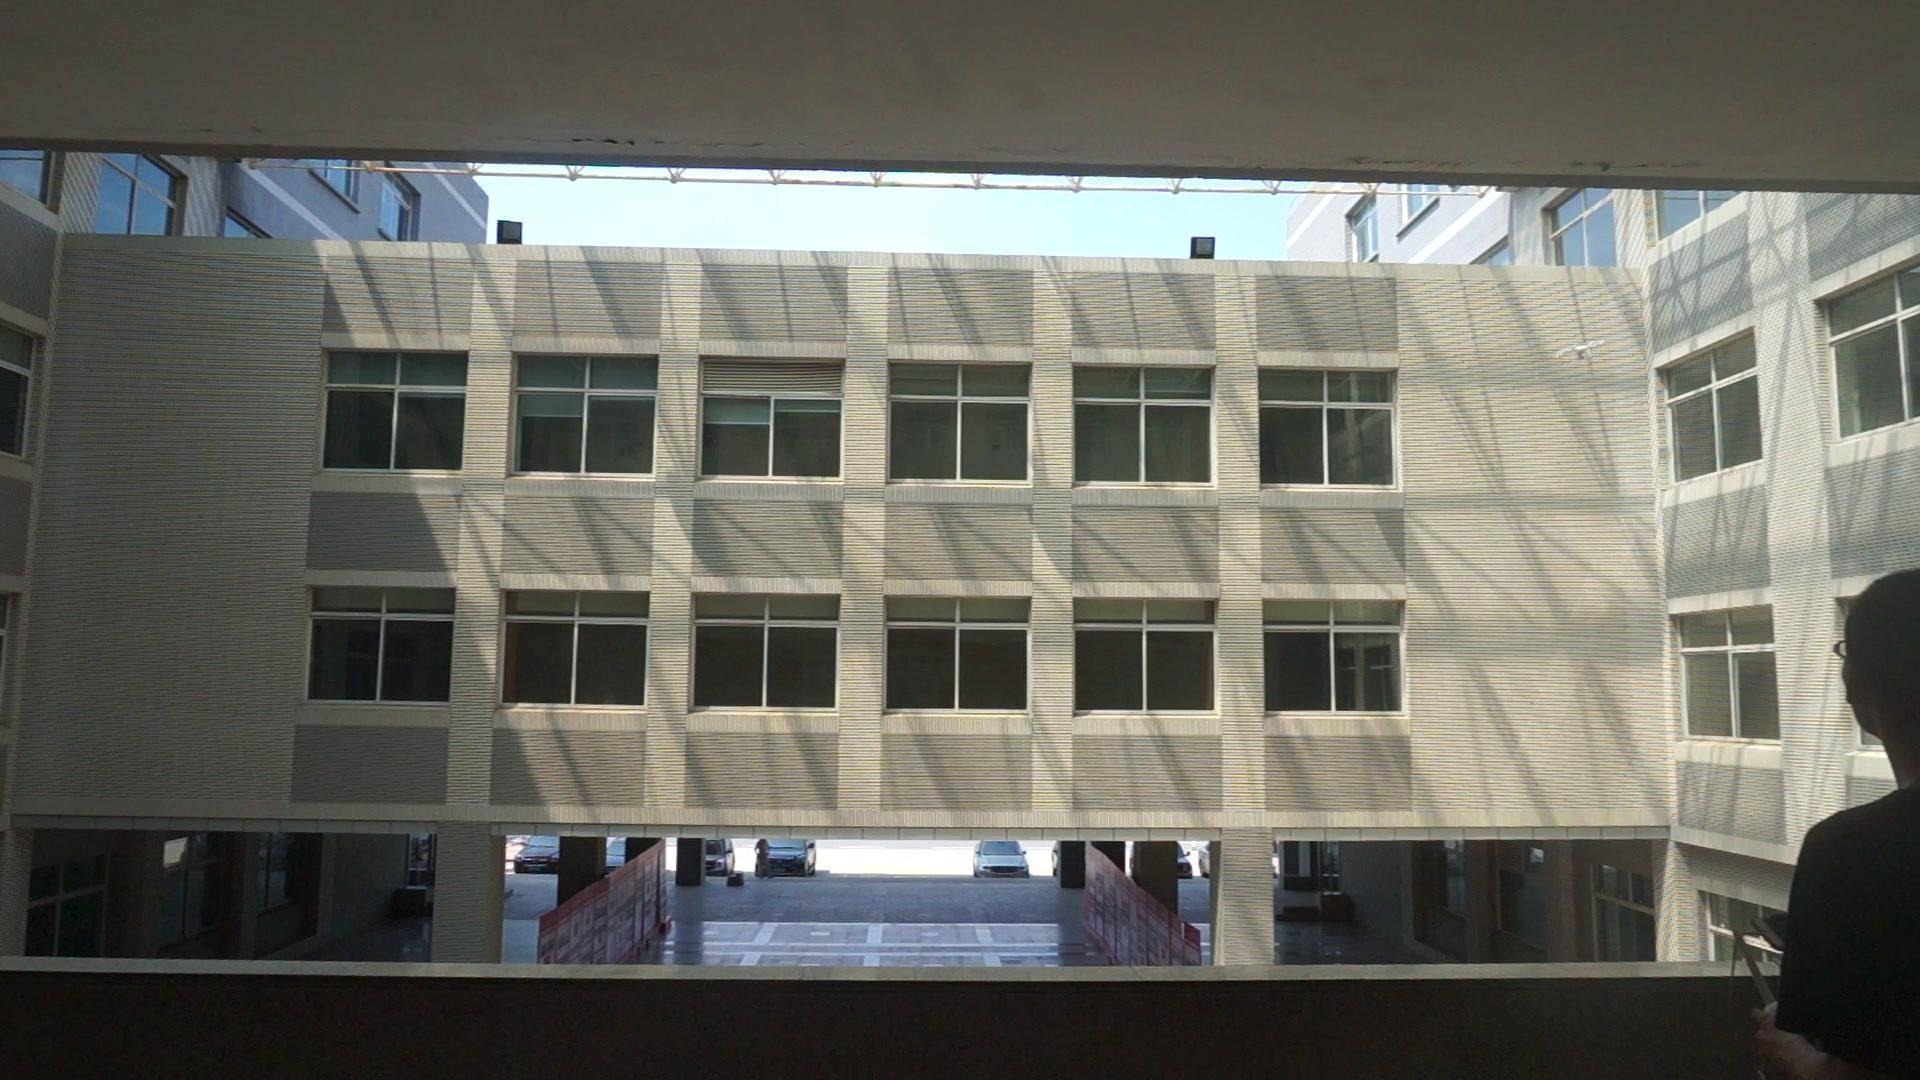UAV: (1557, 339, 1606, 363)
